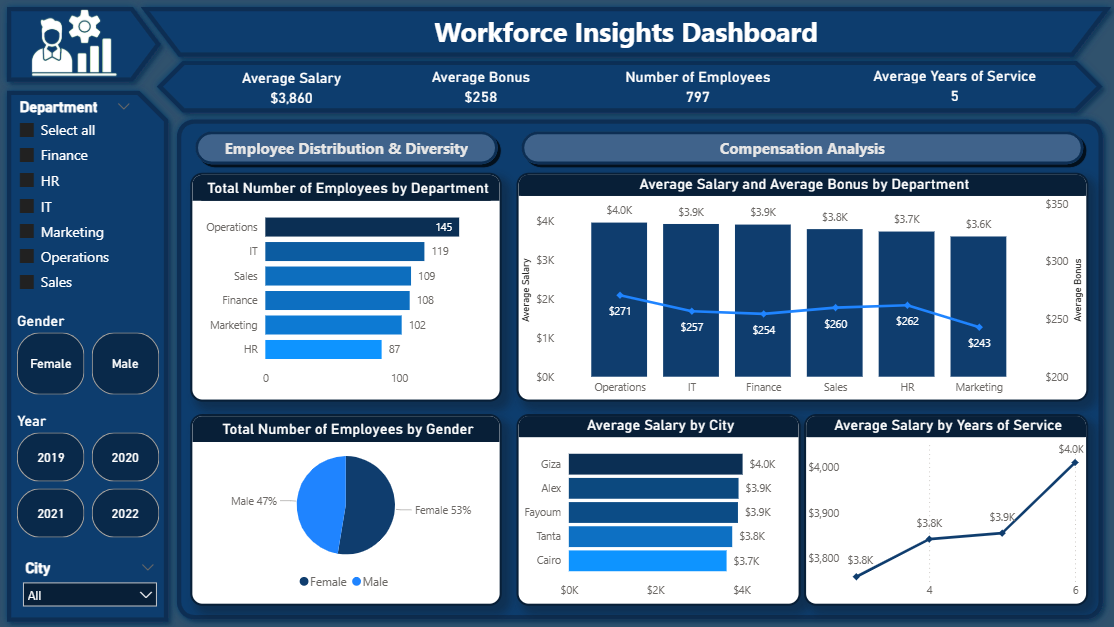

The page's visual inventory and layout, read from the dashboard file:
{"tool":"powerbi","page":{"name":"Dashboard","canvas":[1280,720],"ordinal":0},"visuals":[{"type":"shape","box":[0,0,194,103.6],"z":0},{"type":"shape","box":[171.4,61.9,1098.8,77.4],"z":1000},{"type":"card","title":"Average Salary","fields":{"Values":["Employees_Measures.Average Salary"]},"box":[264.3,79.8,140.5,48.8],"z":2000},{"type":"shape","box":[0,95.2,202.4,625],"z":3000},{"type":"card","title":"Average Bonus","fields":{"Values":["Employees_Measures.Average Bonus"]},"box":[481,78.2,138.8,49.9],"z":4000},{"type":"advancedSlicerVisual","fields":{"Values":["Employees.JoinDate.Variation.Date Hierarchy.Year"]},"box":[16.2,471.7,173.8,149.6],"z":5000},{"type":"card","title":"Number of Employees","fields":{"Values":["Employees_Measures.Total Number of Employees"]},"box":[696.1,78.2,206.2,49.9],"z":6000},{"type":"slicer","fields":{"Values":["Employees.Department"]},"box":[16.2,109.2,146.9,237.2],"z":7000},{"type":"card","title":"Average Years of Service","fields":{"Values":["Employees_Measures.Average Years of Service"]},"box":[978.6,77.4,227.4,48.8],"z":8000},{"type":"shape","box":[194,128.6,1076.2,589.3],"z":9000},{"type":"slicer","fields":{"Values":["Employees.City"]},"box":[16.5,636,173.1,65.9],"z":10000},{"type":"advancedSlicerVisual","fields":{"Values":["Employees.Gender"]},"box":[16.2,357.1,173.8,101.1],"z":11000},{"type":"image","box":[15.7,6,136.3,91.7],"z":12000},{"type":"shape","box":[152.4,0,1127.4,75],"z":13000},{"type":"pieChart","fields":{"Category":["Employees.Gender"],"Y":["Employees_Measures.Total Number of Employees"]},"box":[218.1,473.8,356,219],"z":14000},{"type":"barChart","fields":{"Y":["Employees_Measures.Total Number of Employees"],"Category":["Employees.Department"]},"box":[218.1,198.8,356,261.9],"z":15000},{"type":"lineStackedColumnComboChart","fields":{"Category":["Employees.Department"],"Y":["Employees_Measures.Average Salary"],"Y2":["Employees_Measures.Average Bonus"]},"box":[591.9,198.8,653.6,261.9],"z":16000},{"type":"clusteredBarChart","fields":{"Y":["Employees_Measures.Average Salary"],"Category":["Employees.City"]},"box":[591.9,473.8,325,219],"z":17000},{"type":"lineChart","fields":{"Category":["Employees.Years of Service "],"Y":["Employees_Measures.Average Salary"]},"box":[920.5,473.8,325,219],"z":18000},{"type":"shape","box":[218.1,145.4,357.1,48.8],"z":19000},{"type":"shape","box":[591.9,145.4,653.6,48.8],"z":20000}]}

Visuals, with their boxes in screenshot pixels (x1, y1, x2, y2), scaled from the page's 1280x720 canvas onto the 1114x627 screenshot:
shape: 0/0/169/90
shape: 149/54/1105/121
"Average Salary" card: 230/69/352/112
shape: 0/83/176/626
"Average Bonus" card: 419/68/539/112
advancedSlicerVisual - Employees.JoinDate.Variation.Date Hierarchy.Year: 14/411/165/541
"Number of Employees" card: 606/68/785/112
slicer - Employees.Department: 14/95/142/302
"Average Years of Service" card: 852/67/1050/110
shape: 169/112/1105/625
slicer - Employees.City: 14/554/165/611
advancedSlicerVisual - Employees.Gender: 14/311/165/399
image: 14/5/132/85
shape: 133/0/1113/65
pieChart - Employees.Gender x Employees_Measures.Total Number of Employees: 190/413/500/603
barChart - Employees_Measures.Total Number of Employees x Employees.Department: 190/173/500/401
lineStackedColumnComboChart - Employees.Department x Employees_Measures.Average Salary: 515/173/1084/401
clusteredBarChart - Employees_Measures.Average Salary x Employees.City: 515/413/798/603
lineChart - Employees.Years of Service  x Employees_Measures.Average Salary: 801/413/1084/603
shape: 190/127/501/169
shape: 515/127/1084/169
